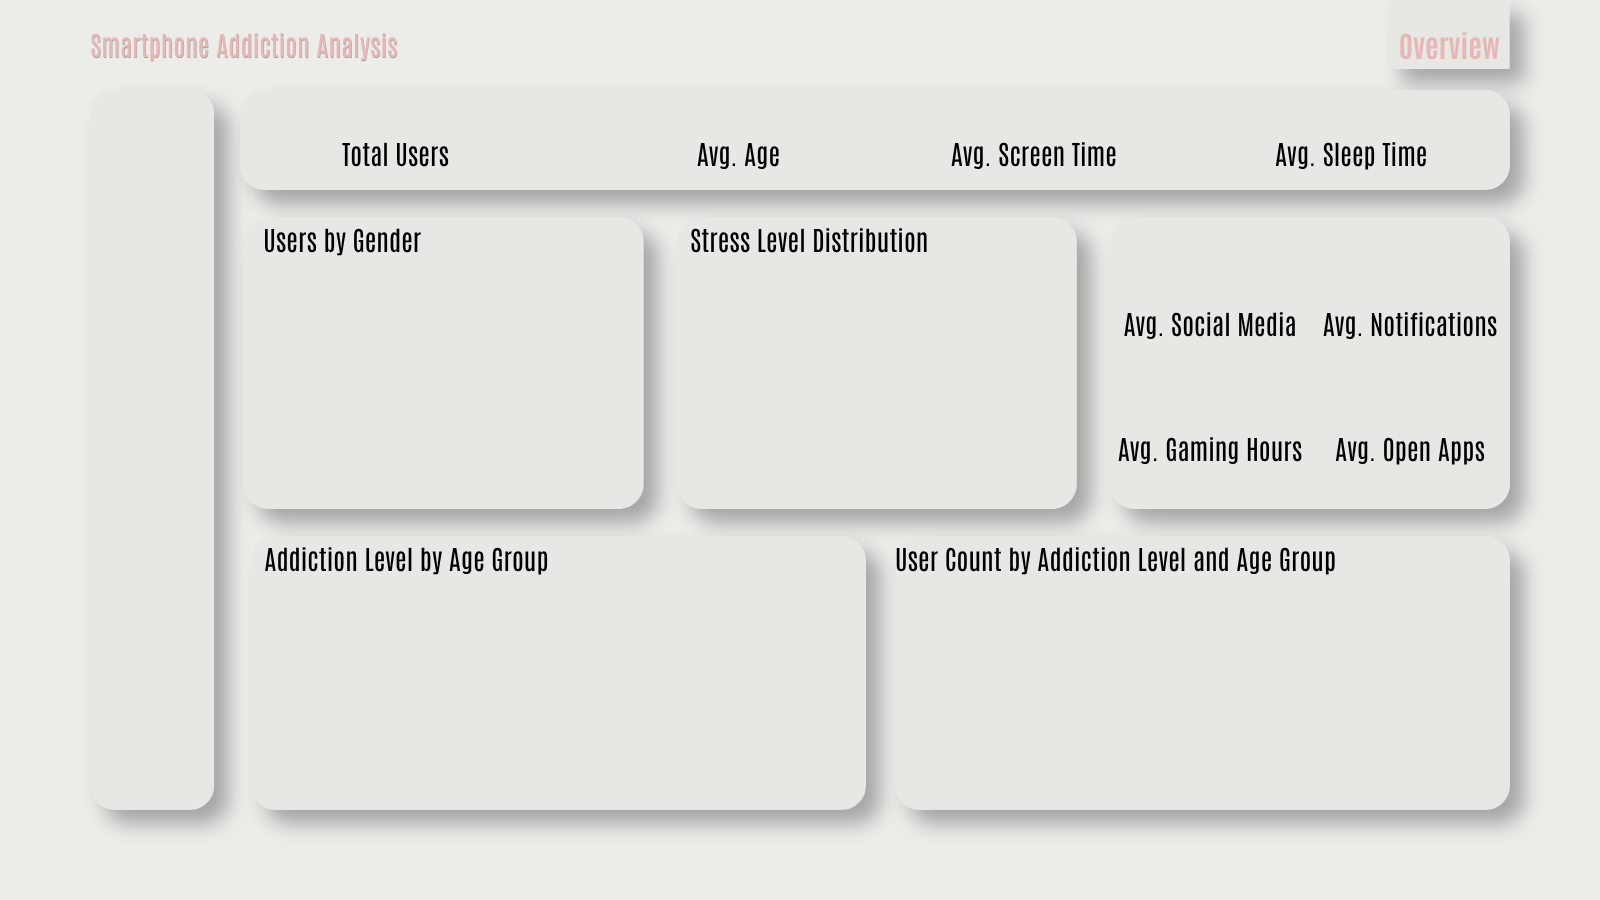

What the dashboard file says about the page in this screenshot:
{"tool":"powerbi","page":{"name":"Overview","canvas":[1280,720],"ordinal":0},"visuals":[{"type":"card","fields":{"Values":["Count(smartphone_addiction_cleaned.user_id)"]},"box":[148.7,112.8,189.9,200.6],"z":0},{"type":"pieChart","fields":{"Y":["Divide(Count(smartphone_addiction_cleaned.user_id), ScopedEval(Count(smartphone_addiction_cleaned.user_id), []))"],"Category":["smartphone_addiction_cleaned.addiction_level"]},"box":[299.6,367.7,176,147.8],"z":1000},{"type":"card","fields":{"Values":["Avg(smartphone_addiction_cleaned.daily_screen_time_hours)"]},"box":[217.9,477.6,200.4,74.9],"z":2000},{"type":"pieChart","fields":{"Category":["smartphone_addiction_cleaned.stress_level"],"Y":["Divide(Count(smartphone_addiction_cleaned.user_id), ScopedEval(Count(smartphone_addiction_cleaned.user_id), []))"]},"box":[368.6,112.8,214,177],"z":3000},{"type":"card","fields":{"Values":["Avg(smartphone_addiction_cleaned.sleep_hours)"]},"box":[418.2,298.6,172.2,140.1],"z":4000},{"type":"card","fields":{"Values":["Avg(smartphone_addiction_cleaned.social_media_hours)"]},"box":[299.6,570,190.6,74.9],"z":5000},{"type":"donutChart","fields":{"Category":["smartphone_addiction_cleaned.gender"],"Y":["Divide(Count(smartphone_addiction_cleaned.user_id), ScopedEval(Count(smartphone_addiction_cleaned.user_id), []))"]},"box":[647.8,87.5,191.6,156.6],"z":6000},{"type":"card","fields":{"Values":["Median(smartphone_addiction_cleaned.weekend_screen_time)"]},"box":[686.7,289.8,193.6,187.7],"z":7000},{"type":"card","fields":{"Values":["Median(smartphone_addiction_cleaned.work_study_hours)"]},"box":[590.4,570,191.6,89.5],"z":8000},{"type":"card","fields":{"Values":["Median(smartphone_addiction_cleaned.gaming_hours)"]},"box":[975.6,105,157.6,139.1],"z":9000},{"type":"card","fields":{"Values":["Median(smartphone_addiction_cleaned.app_opens_per_day)"]},"box":[1020.3,314.2,140.1,124.5],"z":10000},{"type":"card","fields":{"Values":["Median(smartphone_addiction_cleaned.notifications_per_day)"]},"box":[963.9,525.2,219.8,89.5],"z":11000}]}

Visuals, with their boxes in screenshot pixels (x1, y1, x2, y2), scaled from the page's 1280x720 canvas onto the 1600x900 screenshot:
card - Count(smartphone_addiction_cleaned.user_id): crop(186, 141, 423, 392)
pieChart - Divide(Count(smartphone_addiction_cleaned.user_id), ScopedEval(Count(smartphone_addiction_cleaned.user_id), [])) x smartphone_addiction_cleaned.addiction_level: crop(374, 460, 594, 644)
card - Avg(smartphone_addiction_cleaned.daily_screen_time_hours): crop(272, 597, 523, 691)
pieChart - smartphone_addiction_cleaned.stress_level x Divide(Count(smartphone_addiction_cleaned.user_id), ScopedEval(Count(smartphone_addiction_cleaned.user_id), [])): crop(461, 141, 728, 362)
card - Avg(smartphone_addiction_cleaned.sleep_hours): crop(523, 373, 738, 548)
card - Avg(smartphone_addiction_cleaned.social_media_hours): crop(374, 712, 613, 806)
donutChart - smartphone_addiction_cleaned.gender x Divide(Count(smartphone_addiction_cleaned.user_id), ScopedEval(Count(smartphone_addiction_cleaned.user_id), [])): crop(810, 109, 1049, 305)
card - Median(smartphone_addiction_cleaned.weekend_screen_time): crop(858, 362, 1100, 597)
card - Median(smartphone_addiction_cleaned.work_study_hours): crop(738, 712, 978, 824)
card - Median(smartphone_addiction_cleaned.gaming_hours): crop(1220, 131, 1416, 305)
card - Median(smartphone_addiction_cleaned.app_opens_per_day): crop(1275, 393, 1450, 548)
card - Median(smartphone_addiction_cleaned.notifications_per_day): crop(1205, 656, 1480, 768)
